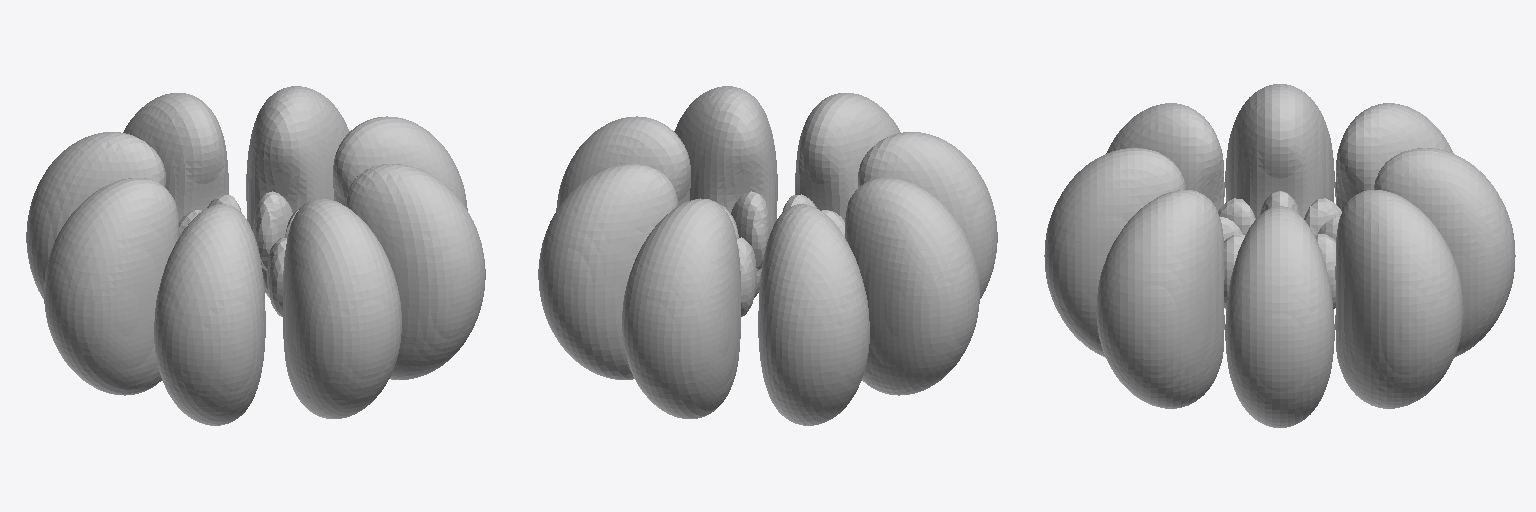
File: orb_n=6_ l=4 _m=4.obj
The picture shows the model from 3 angles: view 1: azimuth 30°, elevation 25°; view 2: azimuth 150°, elevation 25°; view 3: azimuth 270°, elevation 25°; orthographic projection.
Parts seen in each view (by area): view 1: orb_n=6__l=4__m=4; view 2: orb_n=6__l=4__m=4; view 3: orb_n=6__l=4__m=4.
Part boxes in pixels (x1,y1,x2,y2): orb_n=6__l=4__m=4: (26, 86, 485, 425); orb_n=6__l=4__m=4: (538, 86, 997, 425); orb_n=6__l=4__m=4: (1044, 84, 1515, 427).
Bounding box in the file's own units: 149 × 73.37 × 149.